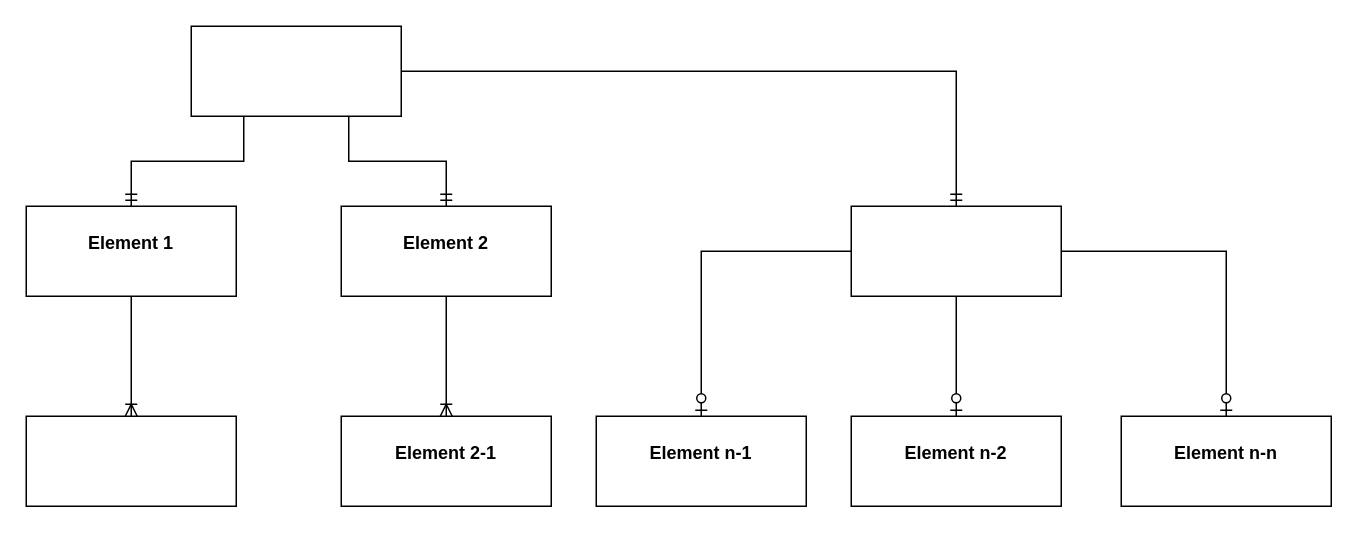
Some shapes in this 1358 by 533 pixel diagram are drawn without their labels. Here are the shapes that lost their labels. From the top down, the centre of each, then its label:
(x=295, y=70): BerichtElement
(x=955, y=250): Element n
(x=130, y=460): Element 1-1
